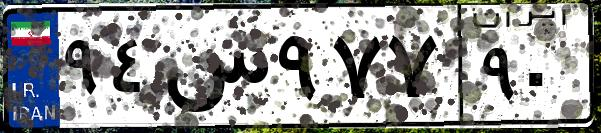0: (525, 38, 570, 115)
4: (110, 28, 158, 98)
7: (385, 28, 445, 110), (330, 28, 385, 110)
9: (270, 28, 330, 110), (57, 26, 110, 100), (475, 38, 525, 113)
س: (158, 20, 270, 120)
